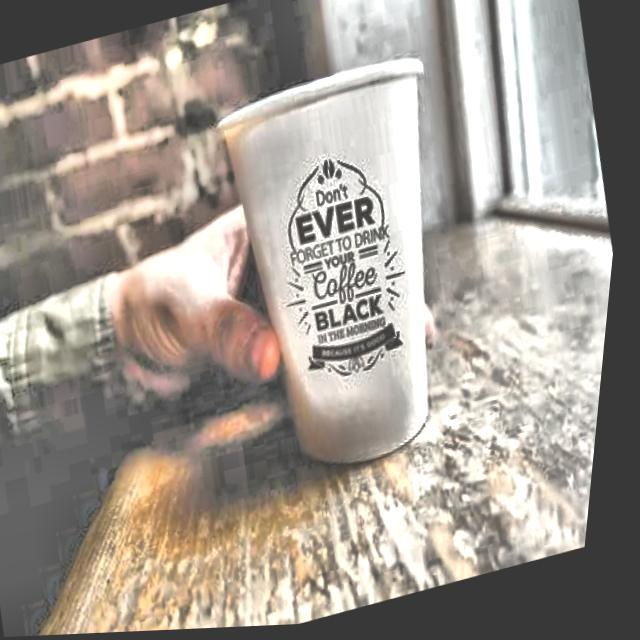Cup: (174, 42, 522, 513)
